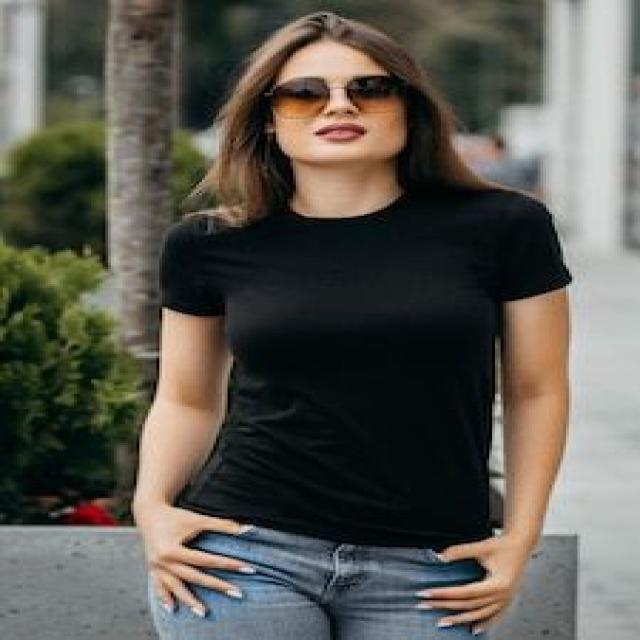shoulder: (161, 186, 562, 293)
